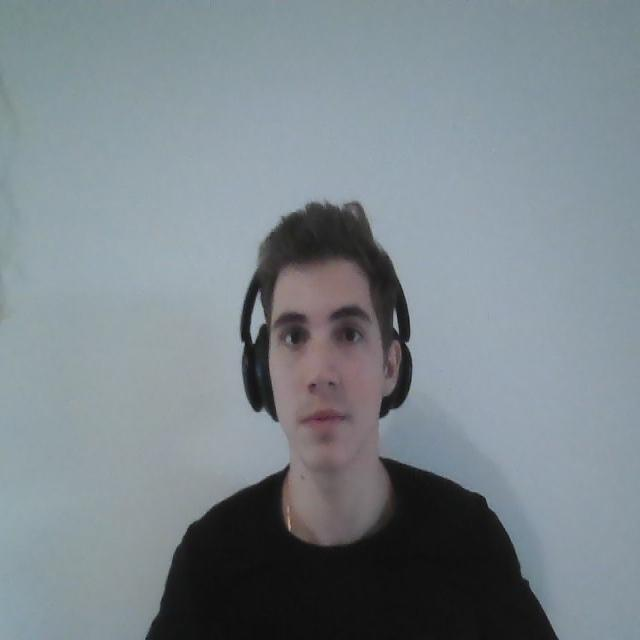opened_eye: (328, 322, 373, 353), (276, 321, 312, 358)
